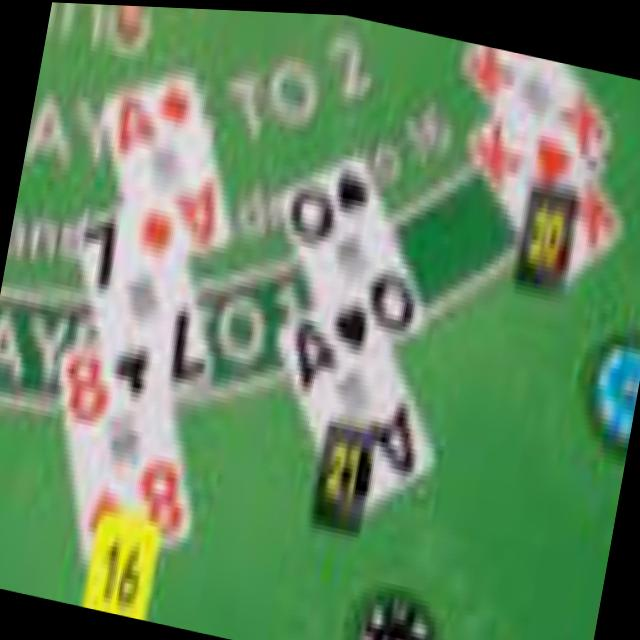Card-7: (77, 212, 212, 420)
Card-8: (58, 338, 191, 549)
Card-A: (277, 303, 437, 506), (105, 68, 232, 277)
Card-K: (468, 115, 624, 276), (462, 41, 610, 209)
Card-Q: (282, 150, 425, 367)
